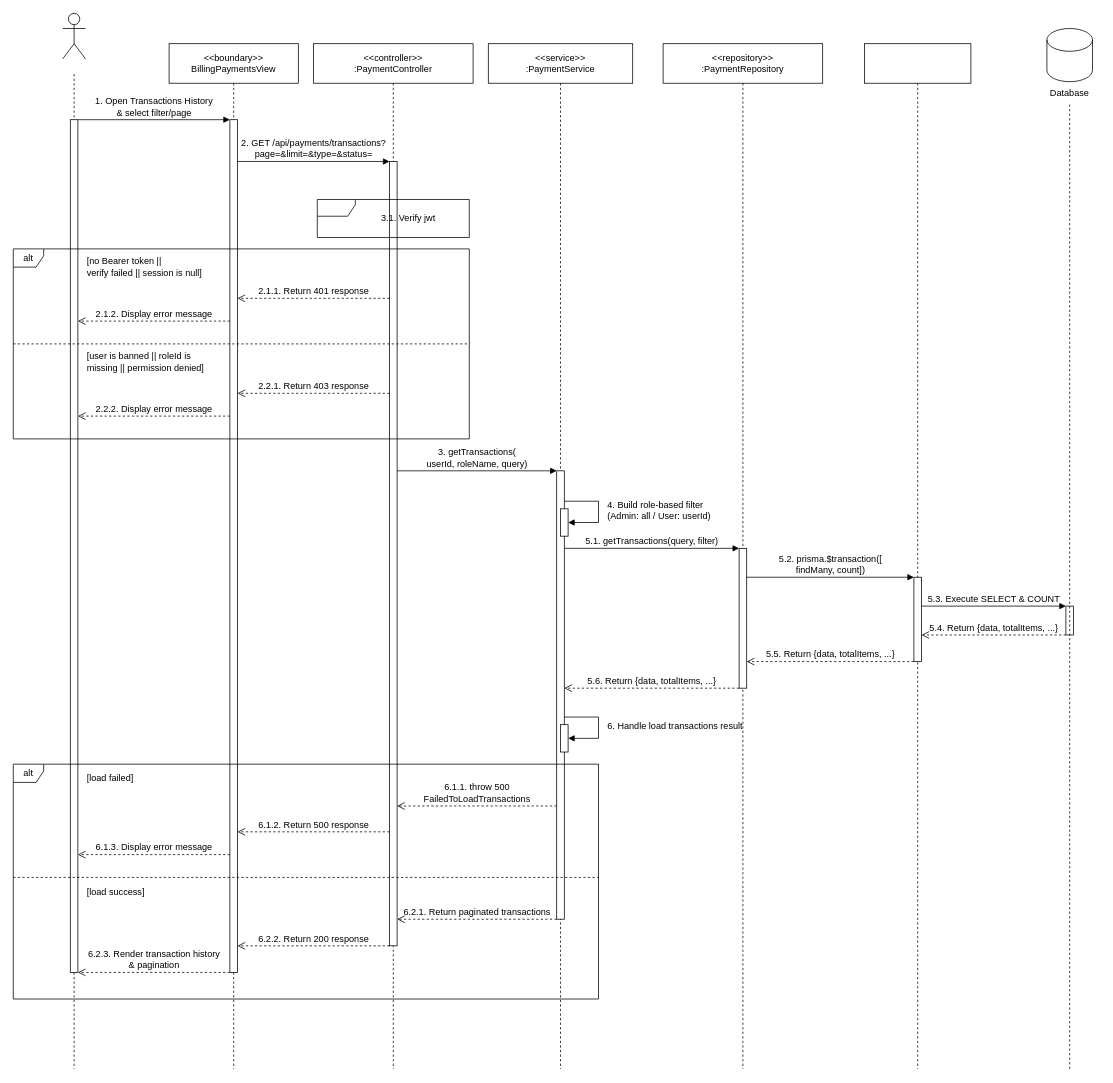
Some shapes in this 1113 by 1083 pixel diagram are drawn without their labels. The box of each missing label's shape, as (x1, y1, x2, y2) in pixels:
<<service>> :PrismaService: (864, 43, 971, 1069)
Client / Freelancer / Admin: (62, 13, 86, 59)
ref: (317, 199, 469, 238)
